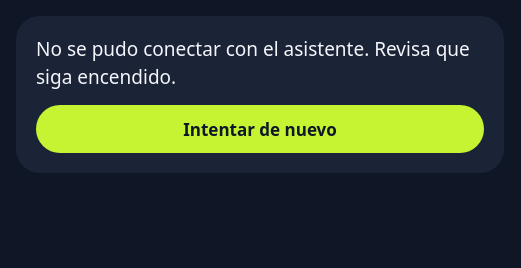
Test: ParentApp › a network failure shows a friendly screen with a retry that works
The image size is (521, 268).
Expected: the text "No se pudo conectar con el asistente. Revisa que siga encendido." is shown, [36,36,484,91]
Click the button "Intentar de nuevo": (260, 129) [36,105,484,153]
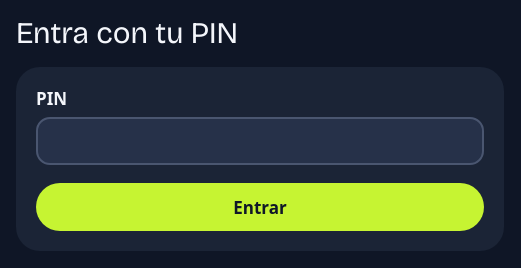
Expected: the password field labelled "PIN" is shown, [36,117,484,165]
